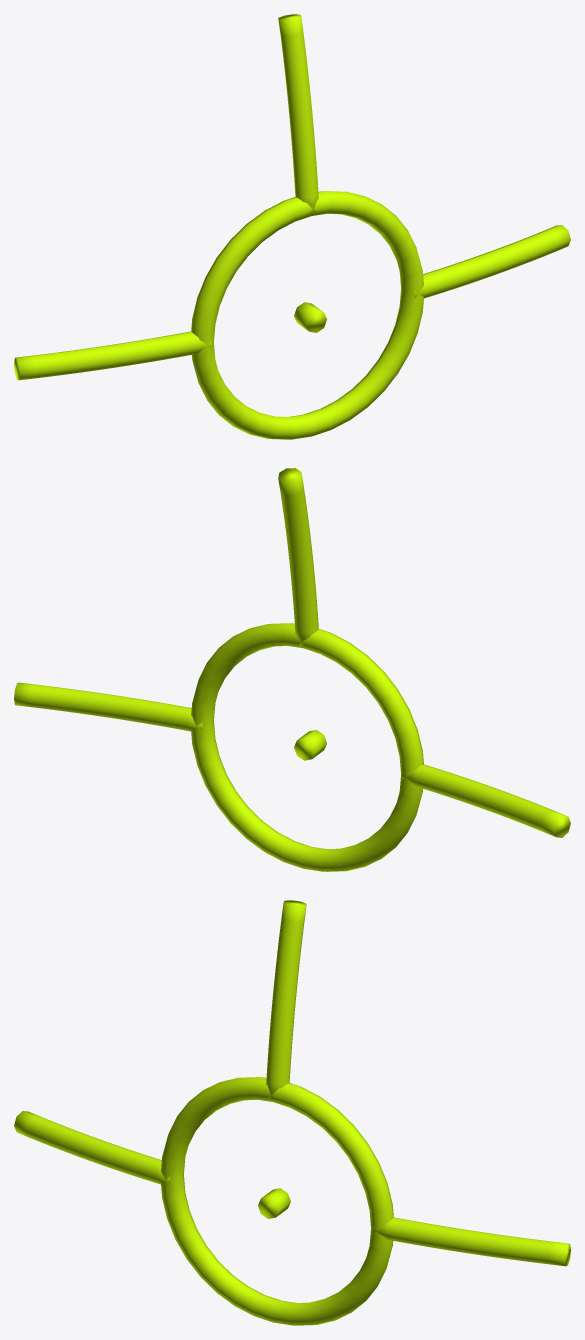
The model's file is marker-prograde.glb.
3 views of the same model, one above another, from view 1: azimuth 30°, elevation 25°; view 2: azimuth 150°, elevation 25°; view 3: azimuth 330°, elevation 25° (orthographic).
Visible parts, largest first — view 1: markers; view 2: markers; view 3: markers.
Part boxes in pixels (left/top/right/bottom): markers: left=14, top=14, right=570, bottom=439; markers: left=14, top=468, right=570, bottom=871; markers: left=14, top=900, right=570, bottom=1325.
Size of the model in its own units: 0.5227 by 0.3713 by 0.0538.
